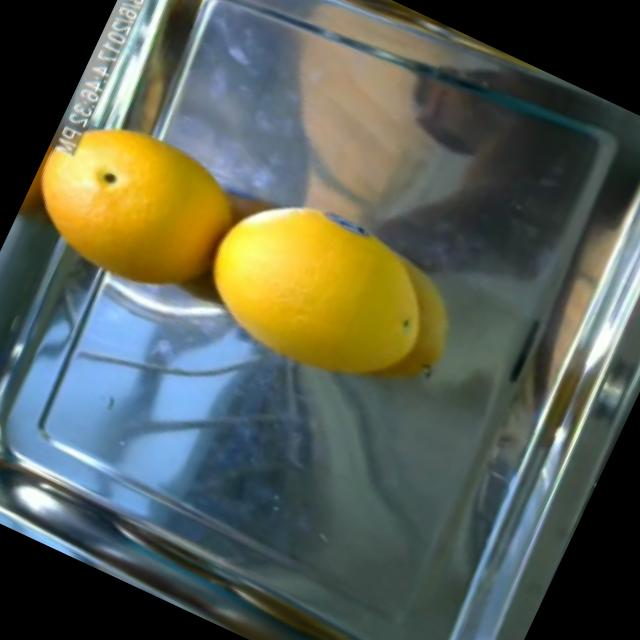Fruit: (258, 203, 488, 418)
